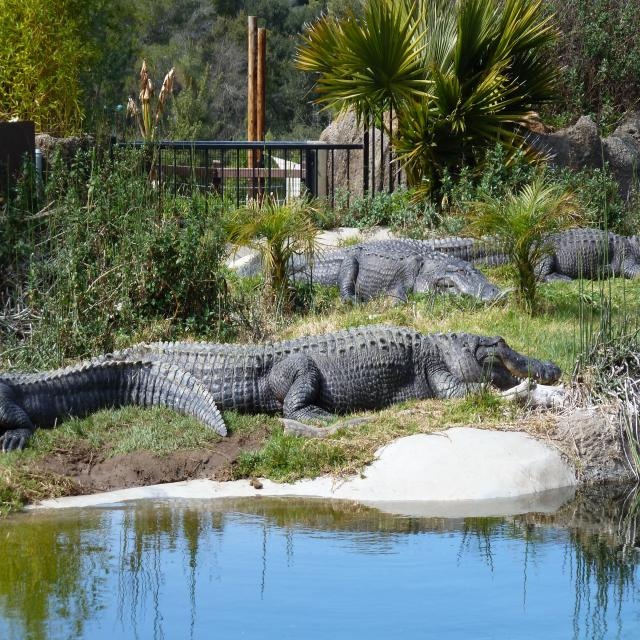crocodile: (0, 315, 575, 469)
